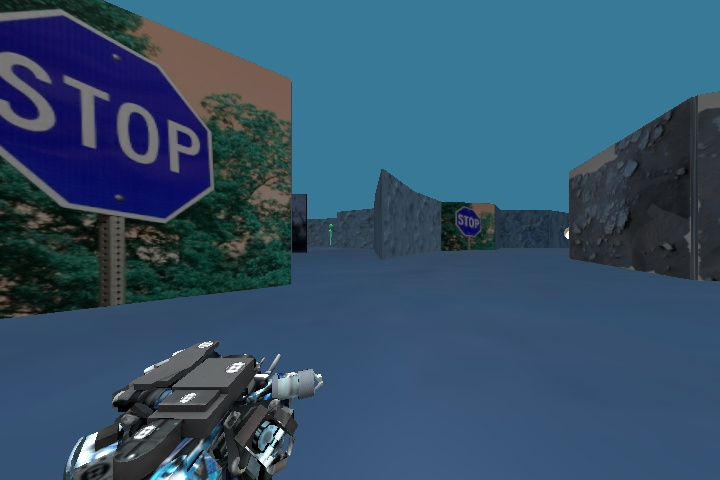green_alien: (322, 218, 339, 249)
stop_sign: (1, 1, 231, 241), (450, 204, 488, 239)
